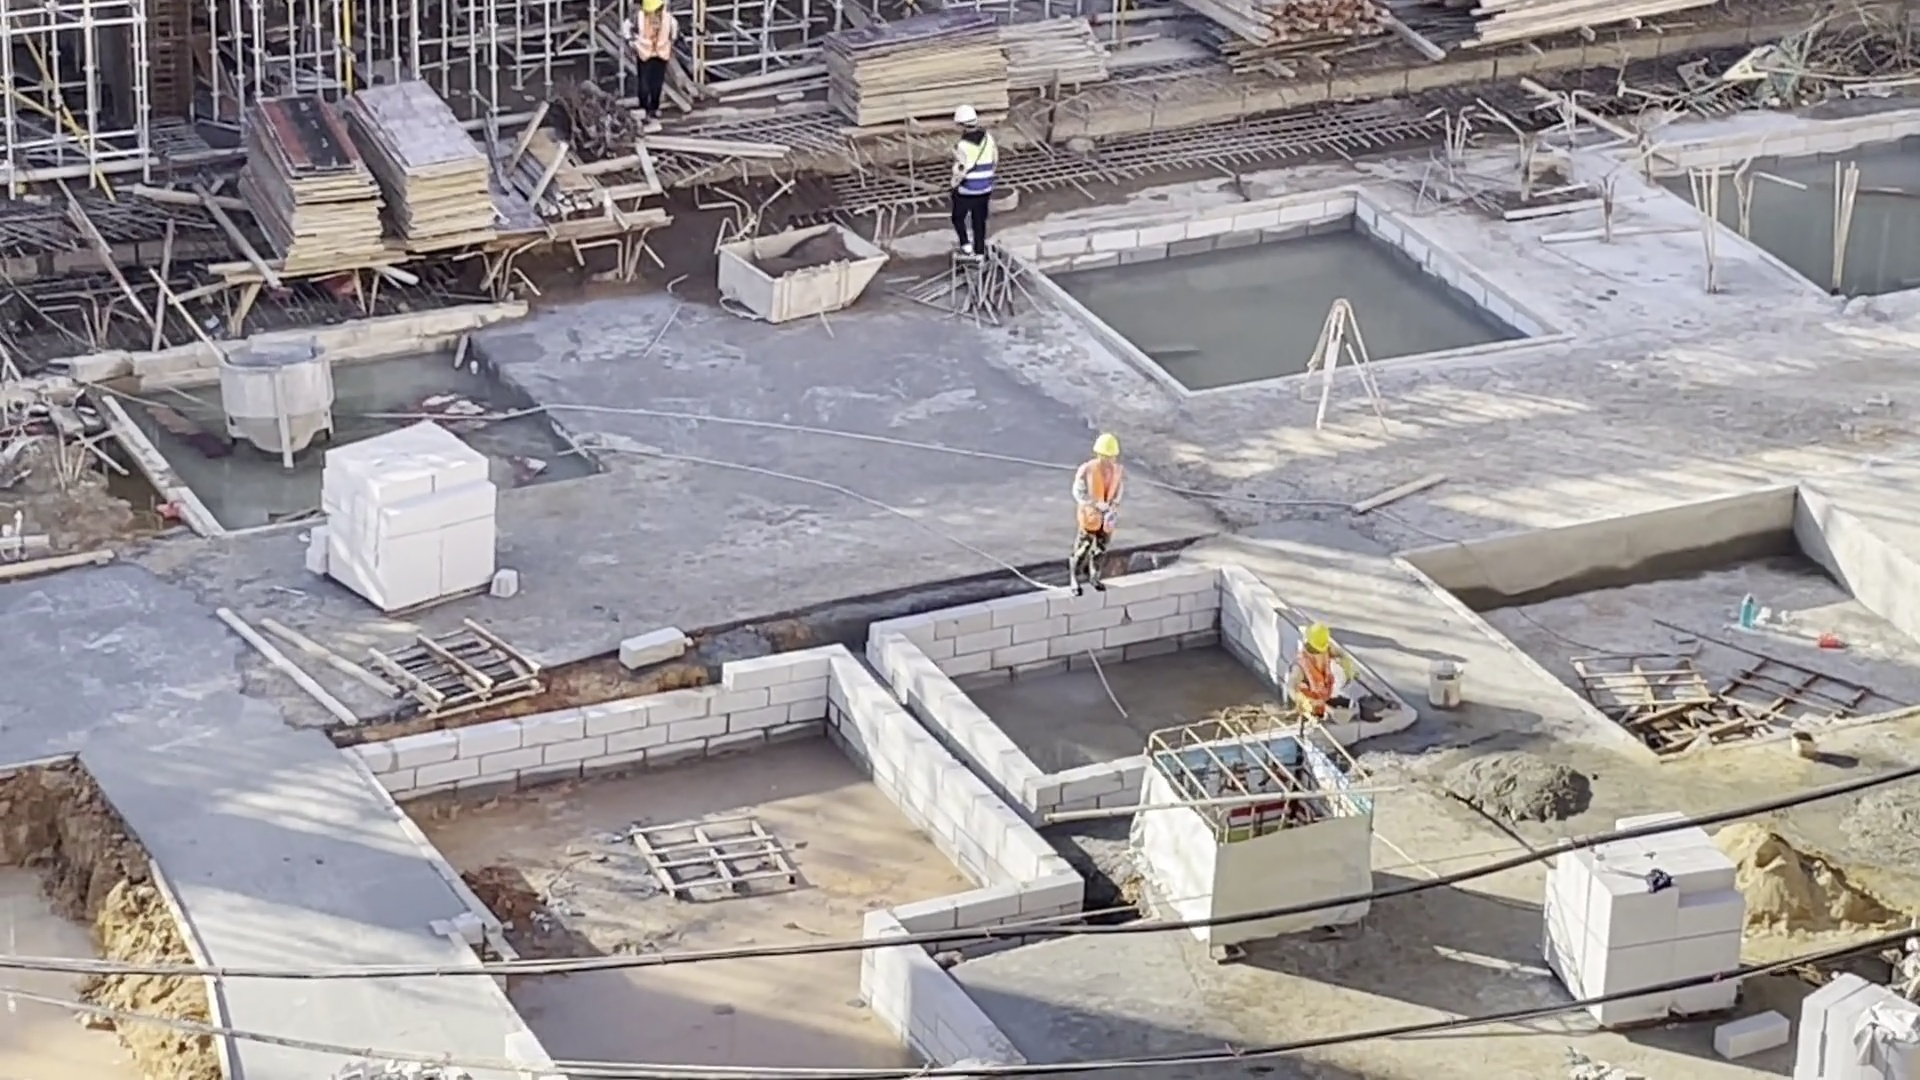board: (343, 74, 501, 260), (233, 94, 388, 276), (812, 17, 1018, 131)
brick: (304, 417, 502, 617), (1538, 861, 1747, 969), (1791, 975, 1918, 1080)
helmet: (1304, 621, 1333, 653), (1091, 432, 1121, 458), (952, 105, 979, 127)
hopper: (711, 222, 889, 324), (214, 335, 339, 471)
person: (1066, 427, 1128, 597), (945, 103, 1005, 262), (616, 2, 682, 127), (1283, 620, 1342, 722)
vest: (1080, 461, 1124, 535), (956, 134, 998, 200), (631, 8, 674, 65), (1297, 652, 1339, 710)
wood: (1452, 2, 1741, 50), (1173, 1, 1408, 50)
